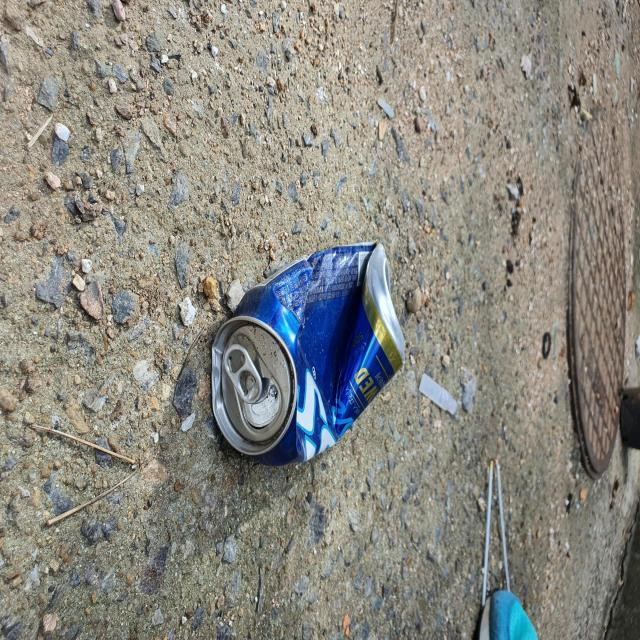can: (212, 242, 405, 466)
